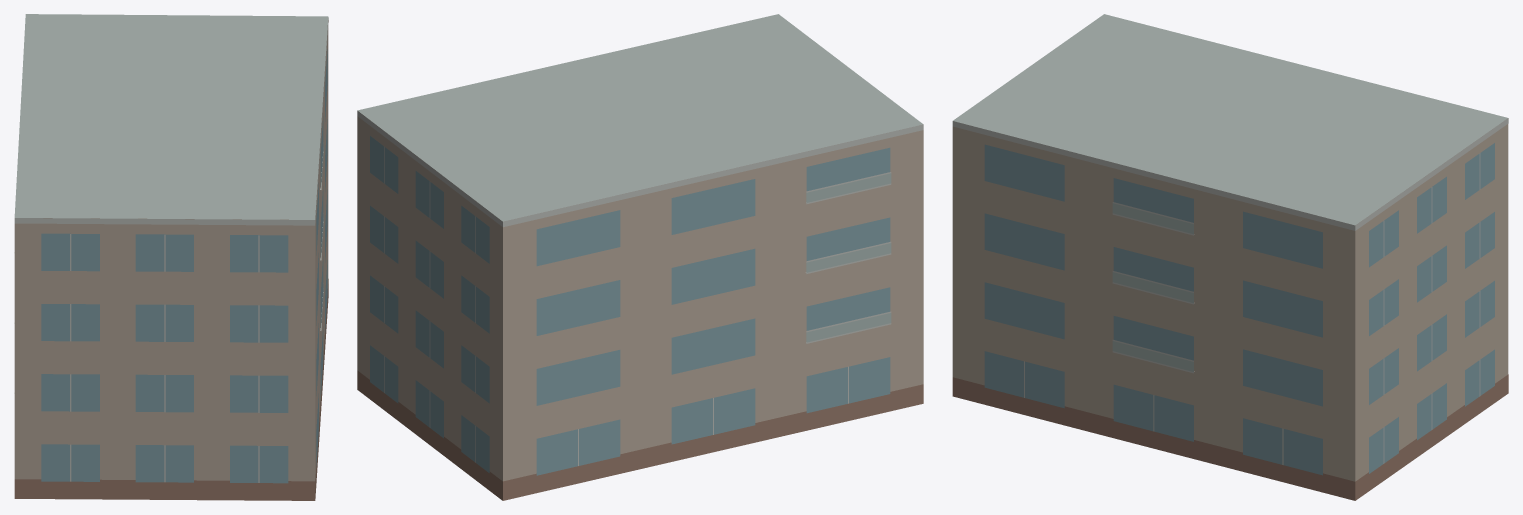
Rendered from survey-upis-32783896.glb.
3 views of the same model, side by side, from view 1: azimuth 30°, elevation 25°; view 2: azimuth 150°, elevation 25°; view 3: azimuth 270°, elevation 25° (orthographic).
Visible parts, largest first — view 1: survey-upis-32783896.tmp; view 2: survey-upis-32783896.tmp; view 3: survey-upis-32783896.tmp.
Part boxes in pixels (x1,y1,x2,y2): survey-upis-32783896.tmp: (14, 14, 328, 500); survey-upis-32783896.tmp: (357, 14, 923, 500); survey-upis-32783896.tmp: (952, 14, 1508, 500).
Size of the model in its own units: 19.92 by 12.1 by 22.14.
